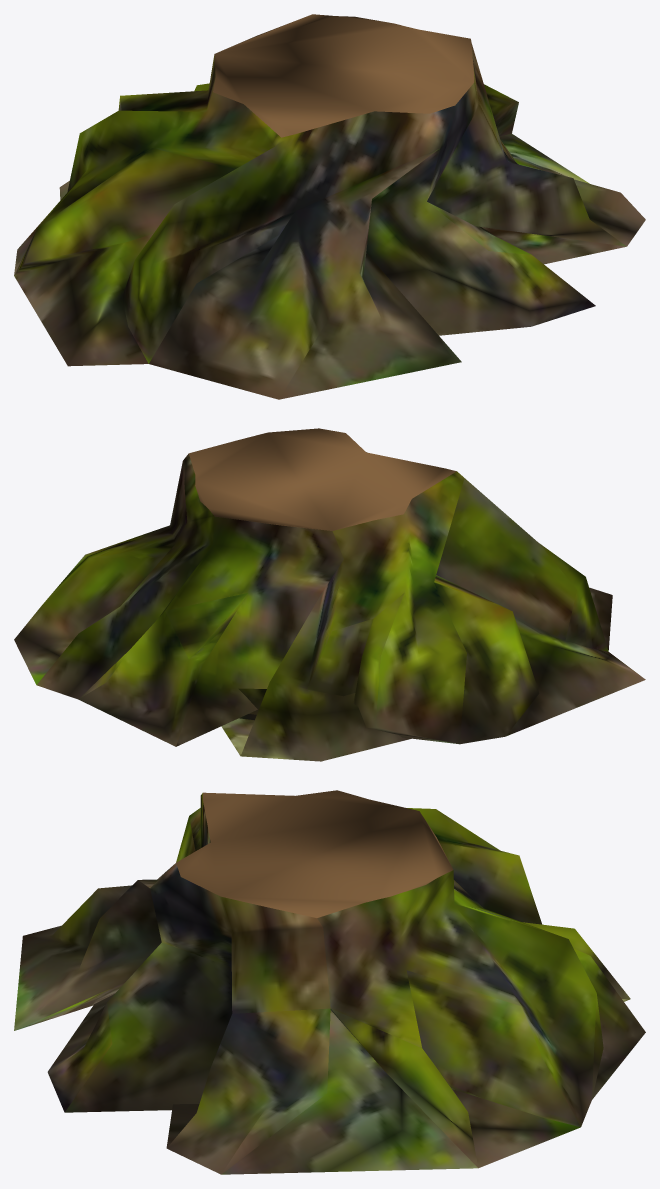
The model's file is moorweide-stumpf.glb.
The picture shows the model from 3 angles, top to bottom: view 1: azimuth 30°, elevation 25°; view 2: azimuth 150°, elevation 25°; view 3: azimuth 270°, elevation 25°; orthographic projection. The views are drawn at different scales.
Parts seen in each view (by area): view 1: baum; view 2: baum; view 3: baum.
Boxes of the visible parts, bbox=[...] form: baum: bbox=[14, 14, 645, 399]; baum: bbox=[14, 428, 645, 761]; baum: bbox=[14, 790, 645, 1174].
Bounding box in the file's own units: 3.38 × 1 × 2.99.
Materials: 2 (1 with a texture image).
